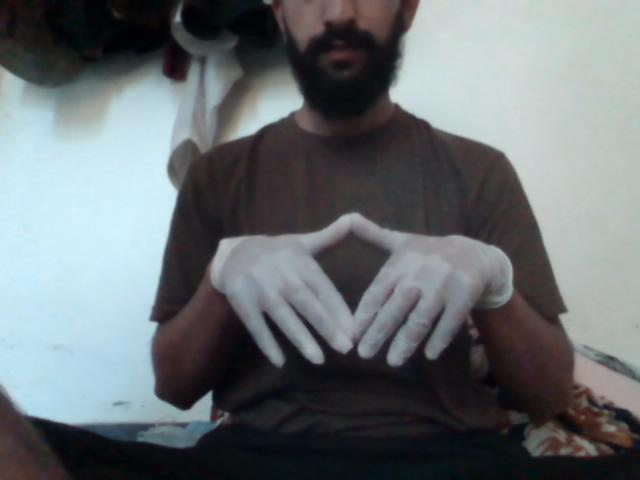gloves: (197, 217, 372, 385), (368, 222, 512, 384)
